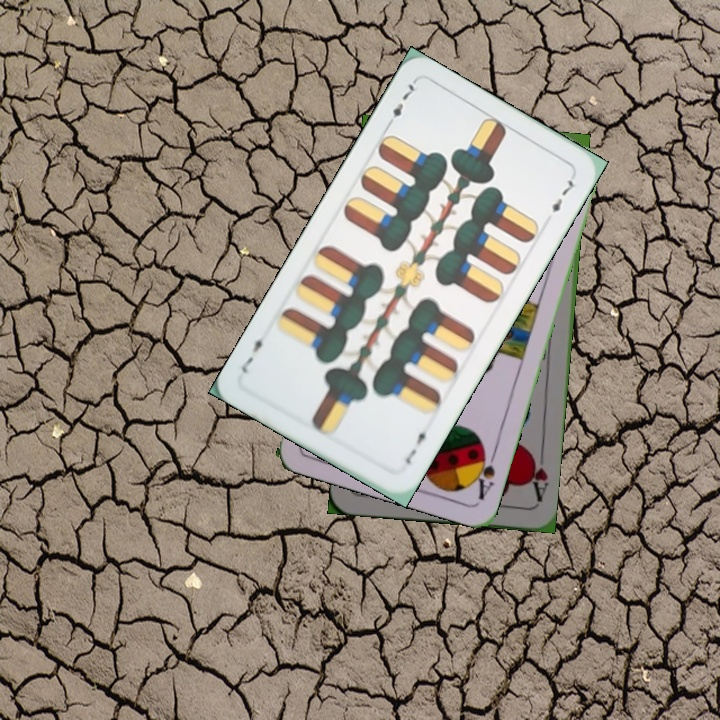E7: (382, 77, 419, 131), (401, 423, 433, 467)
HA: (524, 446, 551, 505)
SA: (468, 443, 500, 503)
